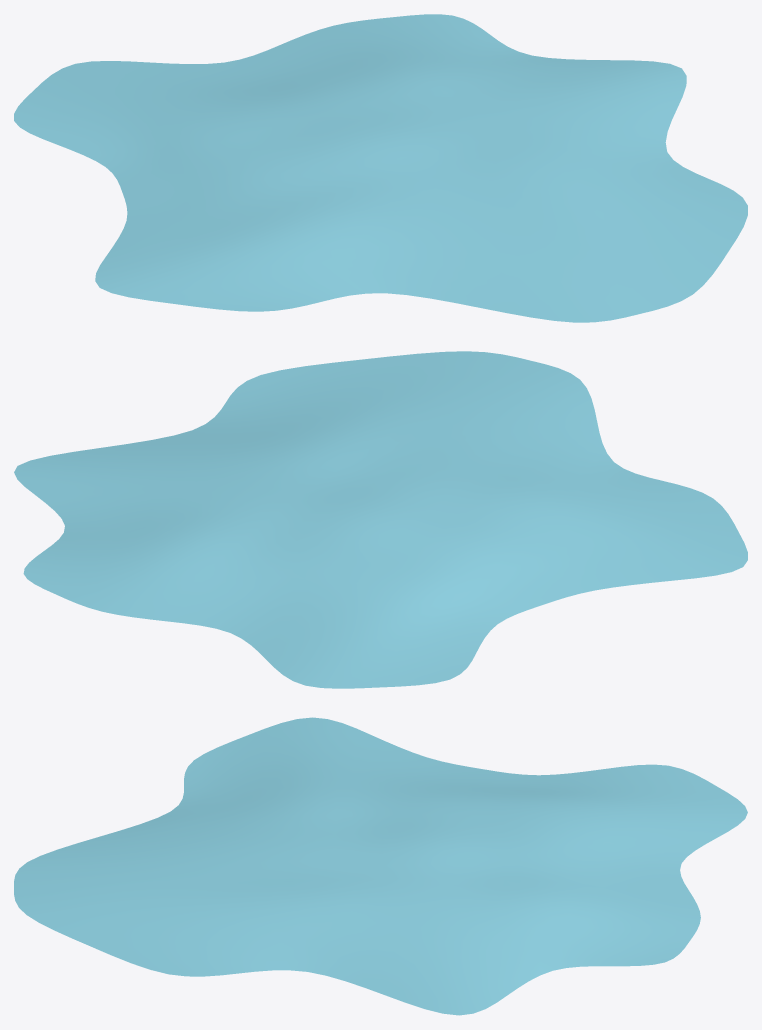
File: suBirikintisi.fbx
The picture shows the model from 3 angles, top to bottom: view 1: azimuth 30°, elevation 25°; view 2: azimuth 150°, elevation 25°; view 3: azimuth 270°, elevation 25°; orthographic projection. The views are drawn at different scales.
Parts seen in each view (by area): view 1: Plane; view 2: Plane; view 3: Plane.
Part boxes in pixels (x1,y1,x2,y2): Plane: [14, 14, 747, 322]; Plane: [14, 351, 747, 688]; Plane: [14, 717, 747, 1015].
Size of the model in its own units: 289 by 8.85 by 301.
